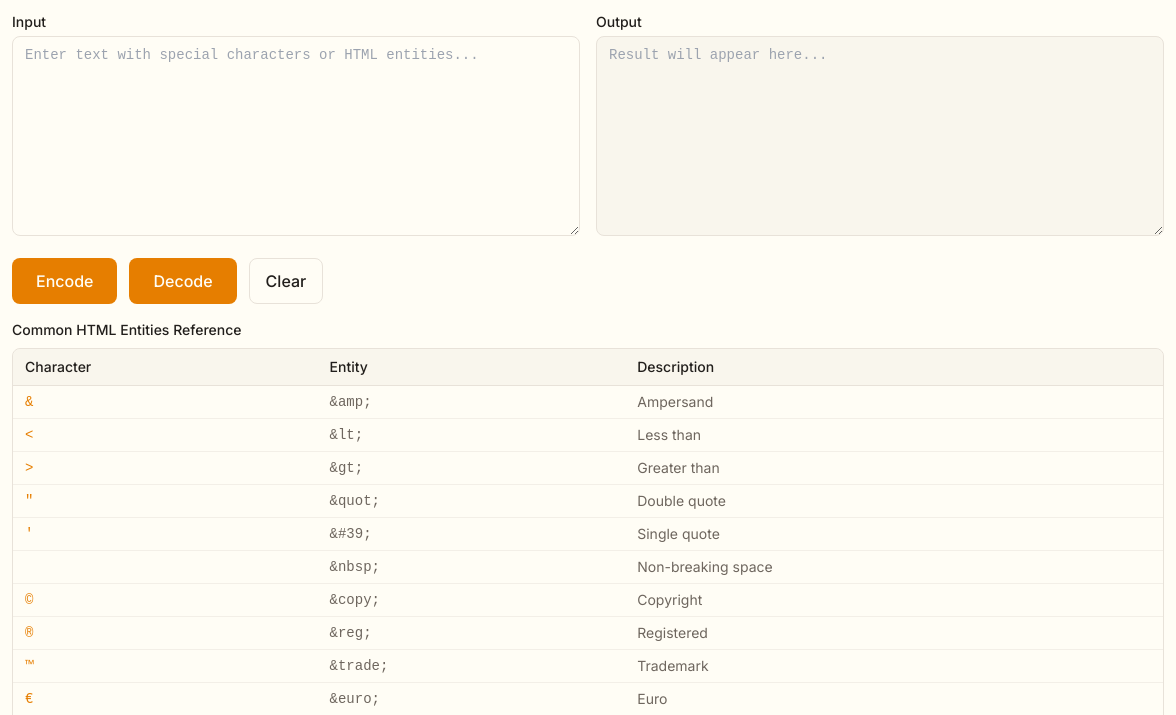
HtmlEntityCodec › encodes & to &amp;
Type "foo & bar" into the text box with placeholder "Enter text with special characters or HTML entities..." at (296,136), box [12,36,580,236]
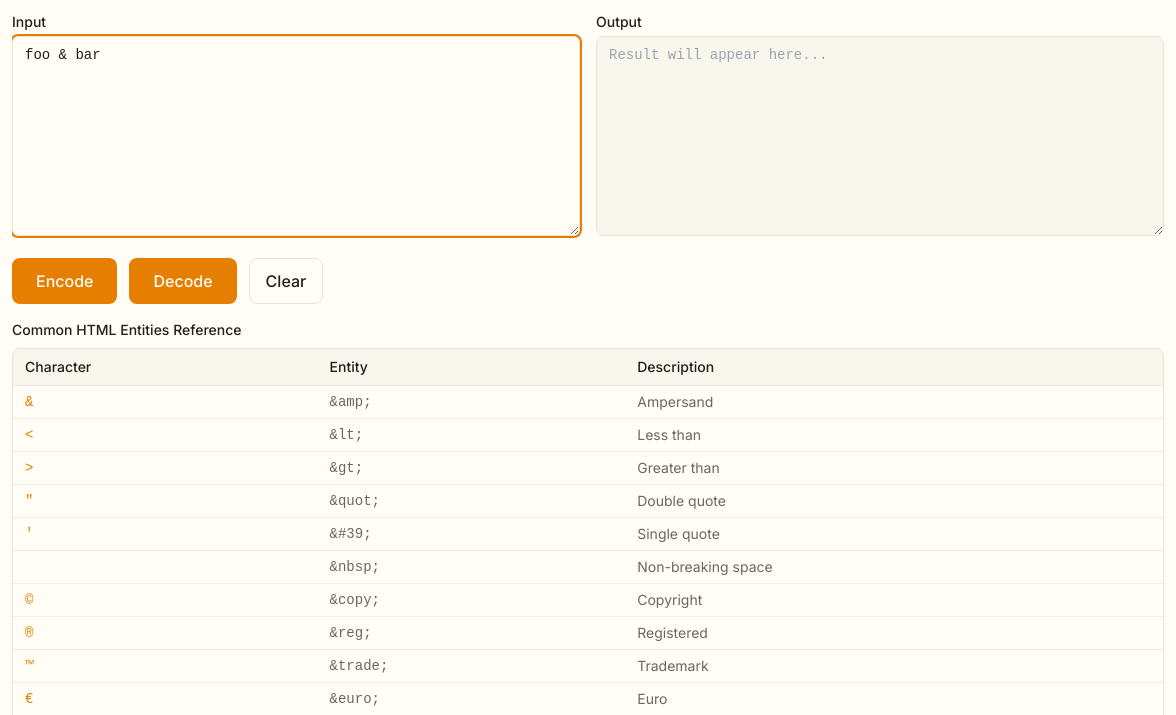
Click the button with aria-label "Encode to HTML entities" at (65,281), box [12,258,118,304]
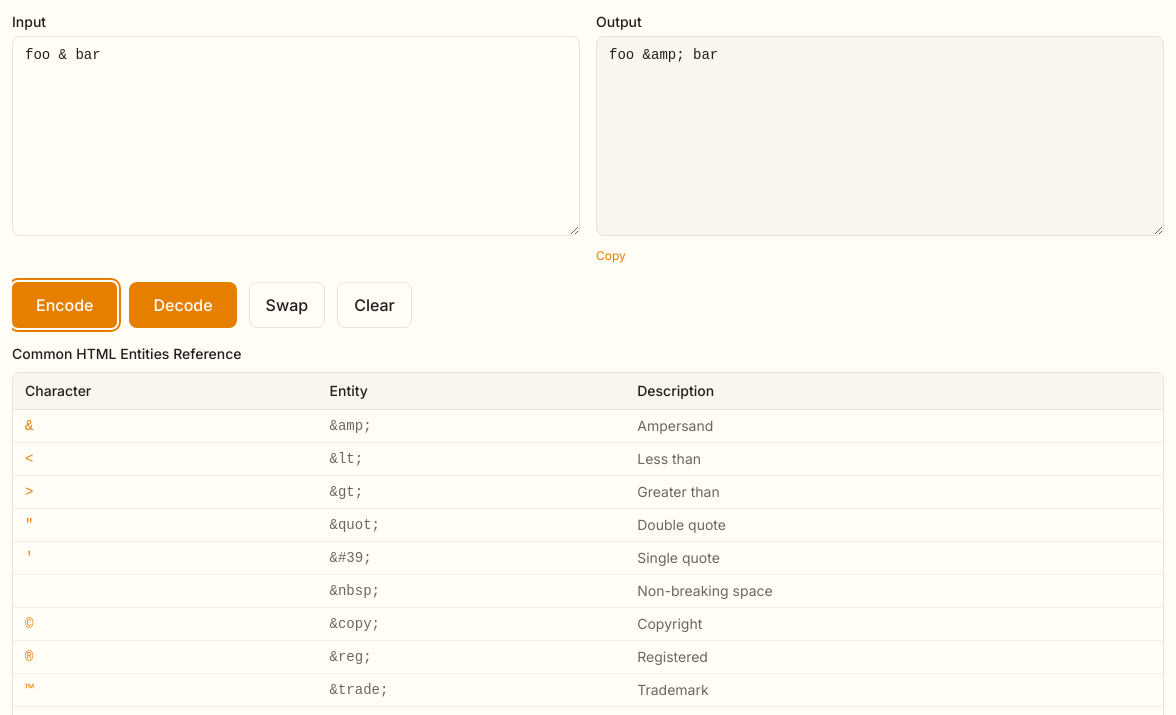
Expected: the text box with placeholder "Result will appear here..." holds "foo &amp; bar", [596,36,1164,236]
